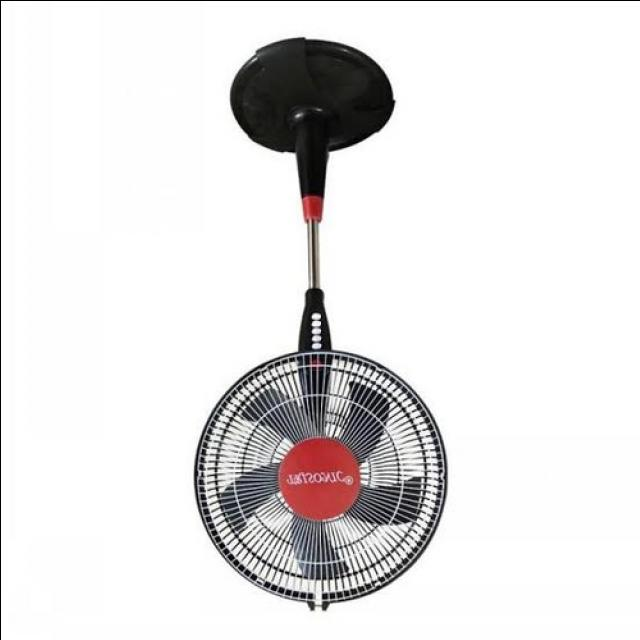fan: (190, 37, 452, 616)
